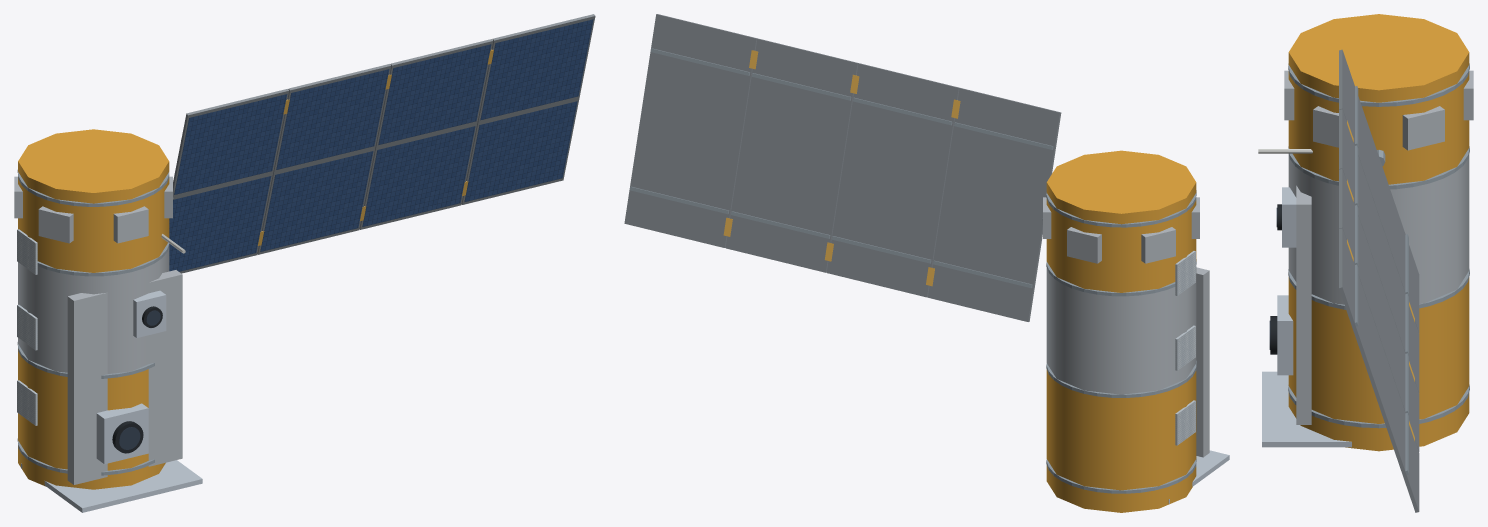
Rendered from ref-atn-13923.glb.
3 renders of one model, left to right at view 1: azimuth 30°, elevation 25°; view 2: azimuth 150°, elevation 25°; view 3: azimuth 270°, elevation 25°, orthographic. The views are drawn at different scales.
Visible parts, largest first — view 1: Solar cell strings (×8), Reaction control module, Instrument mounting tray, Instrument mounting platform, Solar panel substrate (×4), Equipment support module, Instrument sun shield, Aft equipment pack (×2), Thermal louver panel (×3), AVHRR scanning radiometer housing, Bus flange (×2), Infrared sounder housing; view 2: Solar panel substrate (×4), Equipment support module, Reaction control module, Instrument mounting platform, Instrument mounting tray, Bus flange (×3), Thermal louver panel (×3), Aft equipment pack (×2), Instrument sun shield; view 3: Reaction control module, Solar panel substrate (×4), Equipment support module, Instrument mounting platform, Instrument mounting tray, Aft equipment pack (×4), Bus flange (×4), Instrument sun shield, AVHRR scanning radiometer housing, Infrared sounder housing, AVHRR scanning radiometer aperture, Data collection antenna.
Boxes of the visible parts, x1,y1,x2,y2 form: Solar cell strings (×8): [169, 19, 593, 271]; Reaction control module: [18, 129, 169, 272]; Instrument mounting tray: [67, 270, 182, 484]; Instrument mounting platform: [18, 247, 169, 373]; Solar panel substrate (×4): [173, 14, 595, 273]; Equipment support module: [18, 349, 165, 489]; Instrument sun shield: [21, 460, 202, 512]; Aft equipment pack (×2): [38, 206, 148, 243]; Thermal louver panel (×3): [17, 229, 37, 425]; AVHRR scanning radiometer housing: [96, 403, 148, 464]; Bus flange (×2): [17, 170, 169, 276]; Infrared sounder housing: [133, 290, 166, 337]; Solar panel substrate (×4): [624, 14, 1061, 321]; Equipment support module: [1046, 369, 1196, 512]; Reaction control module: [1046, 150, 1196, 292]; Instrument mounting platform: [1046, 268, 1196, 394]; Instrument mounting tray: [1196, 267, 1209, 457]; Bus flange (×3): [1046, 190, 1196, 493]; Thermal louver panel (×3): [1175, 251, 1195, 445]; Aft equipment pack (×2): [1067, 227, 1175, 263]; Instrument sun shield: [1168, 450, 1229, 503]; Reaction control module: [1288, 14, 1469, 184]; Solar panel substrate (×4): [1339, 49, 1419, 512]; Equipment support module: [1288, 277, 1469, 451]; Instrument mounting platform: [1288, 154, 1469, 304]; Instrument mounting tray: [1296, 185, 1311, 424]; Aft equipment pack (×4): [1284, 70, 1473, 150]; Bus flange (×4): [1288, 63, 1469, 428]; Instrument sun shield: [1262, 371, 1351, 447]; AVHRR scanning radiometer housing: [1277, 295, 1293, 375]; Infrared sounder housing: [1282, 187, 1296, 247]; AVHRR scanning radiometer aperture: [1270, 316, 1277, 354]; Data collection antenna: [1258, 149, 1312, 153].
Size of the model in its own units: 8.02 by 4.75 by 2.27.
11 materials, 2 textured.
